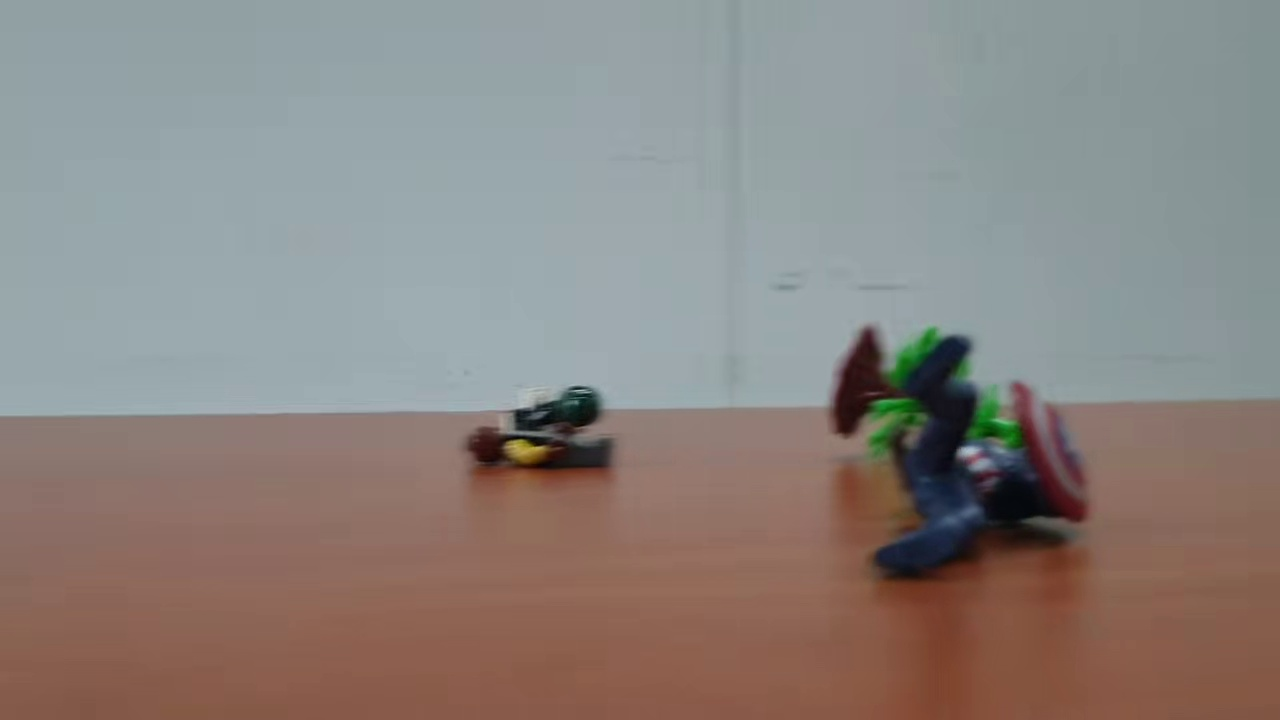people: (861, 333, 1098, 580), (464, 421, 618, 474), (490, 380, 602, 447)
tree: (825, 322, 1040, 456)
